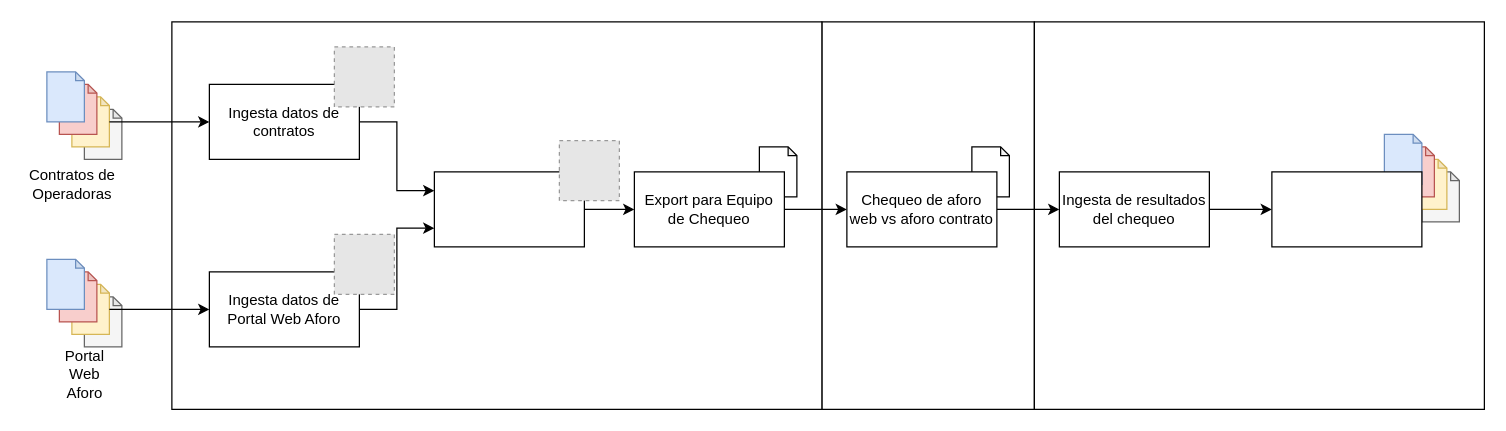
The diagram is 1506 pixels wide and 431 high, and some of its shapes have lost their labels. Grey dashed boxes stand in for pictures. Each missing label, with the centre of its shape:
"Export para herramienta de consumo" belongs at (x=1346, y=209).
"Relación Contrato - Aforo" belongs at (x=508, y=209).
